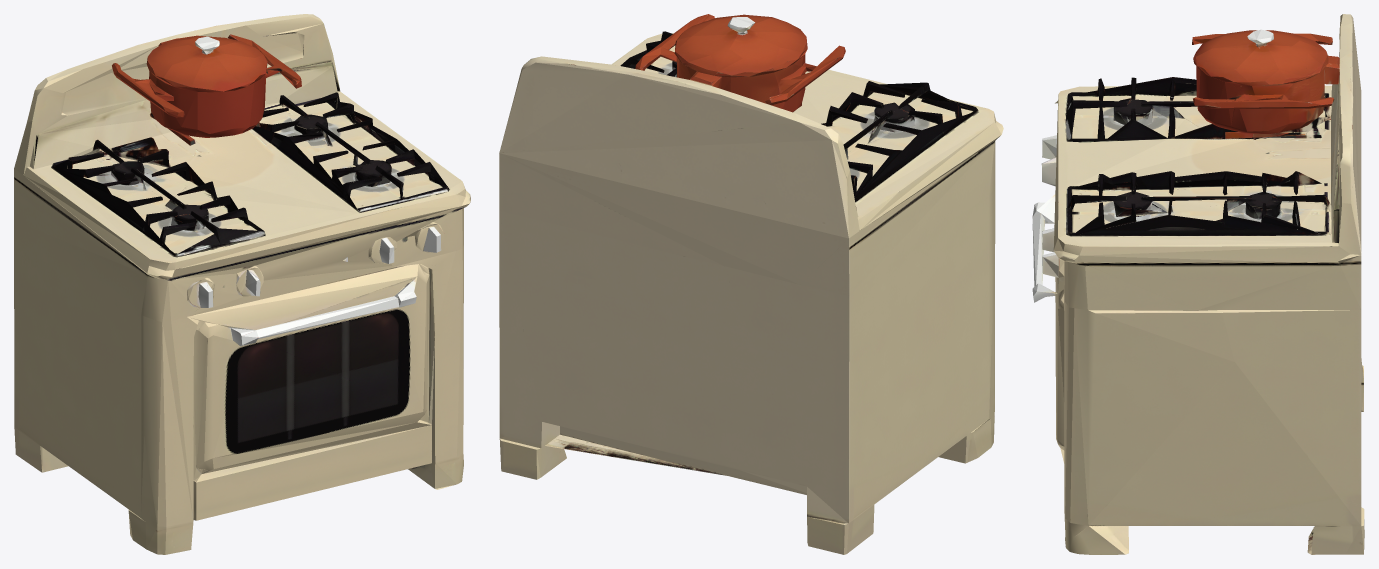
Rendered from home-stove.glb.
3 views of the same model, side by side, from view 1: azimuth 30°, elevation 25°; view 2: azimuth 150°, elevation 25°; view 3: azimuth 270°, elevation 25° (orthographic). The views are drawn at different scales.
Bounding box in the file's own units: 1.55 × 1.9 × 1.32.
Materials: 1 (1 with a texture image).
